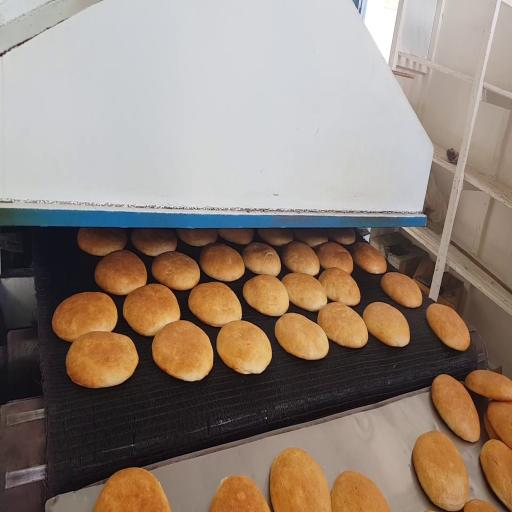bread: (413, 431, 469, 511), (66, 332, 138, 388), (270, 448, 331, 511), (152, 320, 213, 381), (93, 468, 170, 511), (431, 375, 480, 442), (52, 292, 117, 341), (123, 284, 180, 336), (217, 320, 271, 374), (275, 313, 328, 360), (95, 250, 147, 295), (332, 471, 390, 511), (318, 302, 368, 348), (188, 283, 241, 326), (480, 440, 511, 510), (363, 302, 409, 347), (210, 476, 269, 511), (427, 304, 470, 351), (243, 275, 289, 316), (152, 252, 200, 290), (200, 244, 245, 282), (282, 273, 327, 311), (319, 268, 360, 305), (381, 273, 422, 308), (465, 370, 511, 401), (78, 228, 127, 256), (242, 242, 281, 276), (131, 229, 177, 256), (282, 242, 319, 275), (316, 242, 353, 273), (487, 402, 511, 448), (353, 243, 386, 274), (177, 229, 217, 246), (258, 229, 293, 246), (294, 229, 327, 247), (218, 229, 253, 245), (483, 411, 500, 440), (327, 229, 355, 245), (464, 500, 497, 511)
